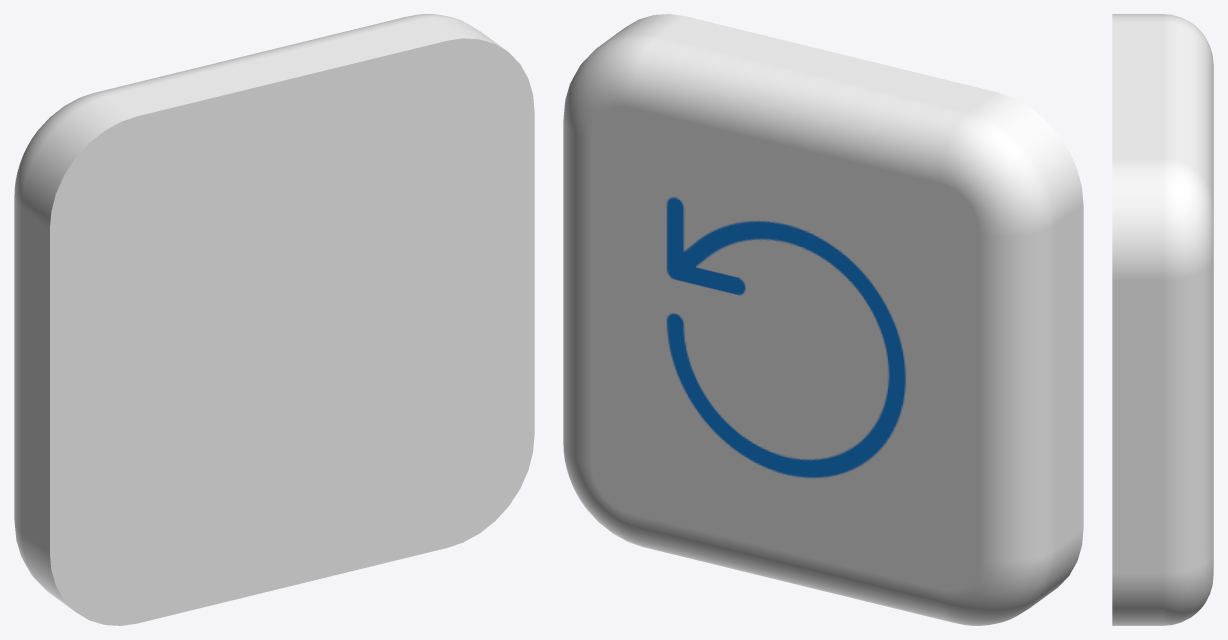
Rendered from reset.fbx.
3 views of the same model, side by side, from view 1: azimuth 30°, elevation 25°; view 2: azimuth 150°, elevation 25°; view 3: azimuth 270°, elevation 25° (orthographic). The views are drawn at different scales.
Parts seen in each view (by area): view 1: Reset; view 2: Reset; view 3: Reset.
Boxes of the visible parts, x1,y1,x2,y2 form: Reset: (14, 14, 534, 625); Reset: (563, 14, 1083, 625); Reset: (1112, 14, 1213, 625).
Bounding box in the file's own units: 500 × 500 × 100.
